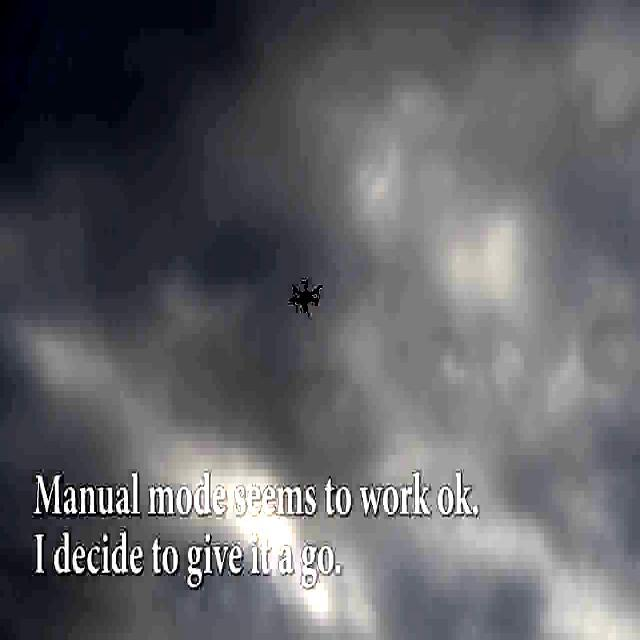drone: (285, 271, 324, 318)
